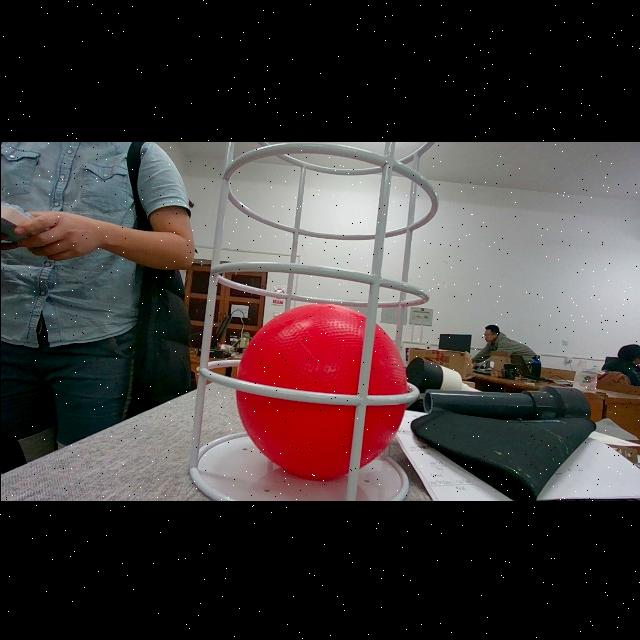R: (235, 302, 407, 480)
S: (188, 140, 438, 500)
